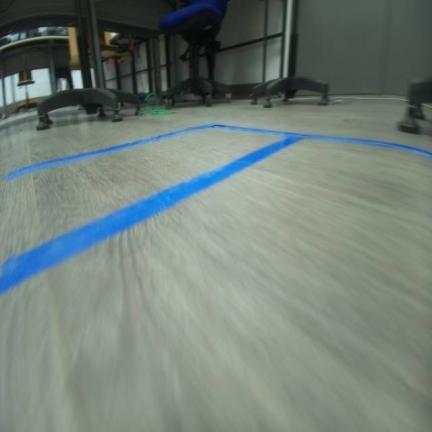place: (0, 130, 431, 431), (0, 121, 311, 296)
